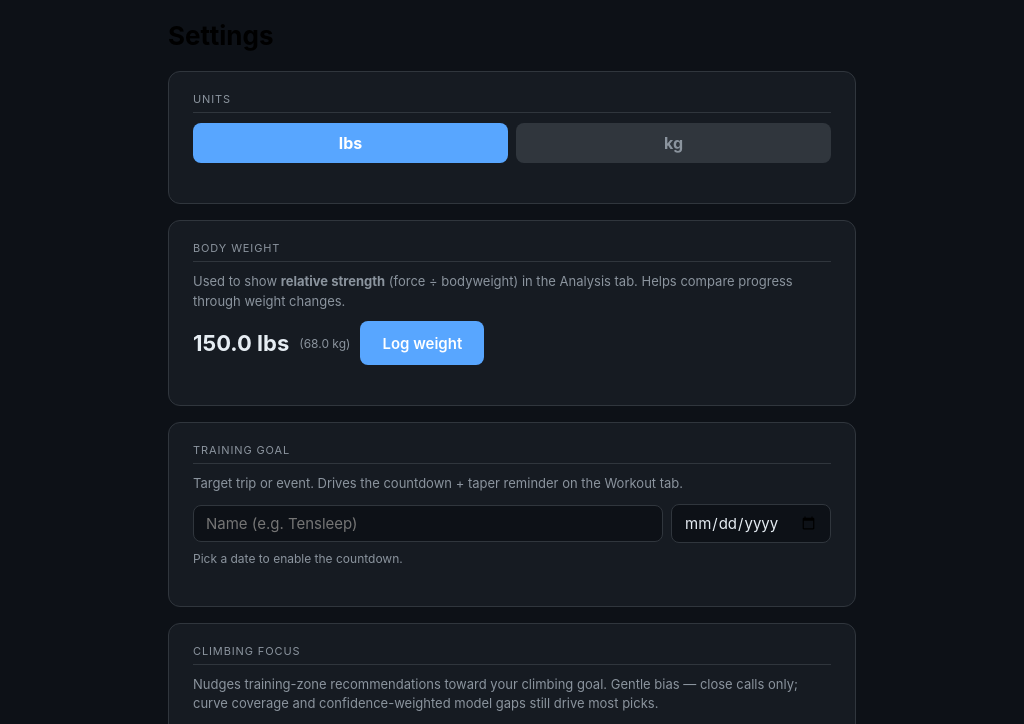
Test: Settings saves only the confirmed decimal weight, never intermediate typing
Expected: the text "150.0 lbs" is shown, [193, 330, 289, 356]
Click the button "Log weight" at (422, 343), box [360, 321, 484, 365]
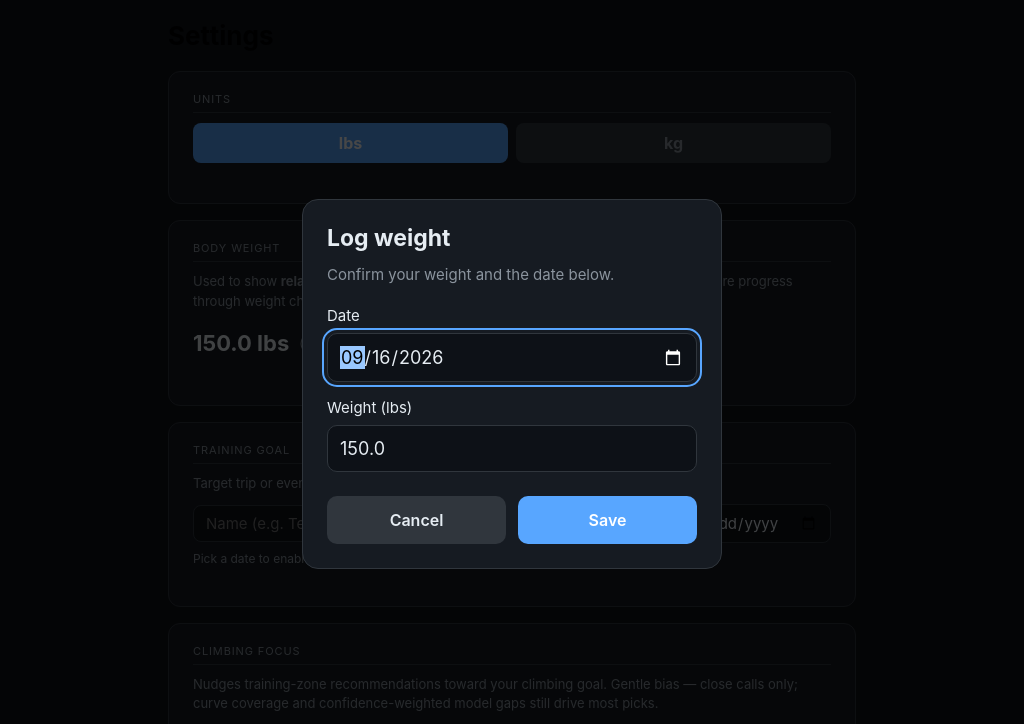
Clear the number field labelled "Weight (lbs)" at (512, 449), box [327, 425, 697, 472]
Type "1" into the number field labelled "Weight (lbs)" at (512, 449), box [327, 425, 697, 472]
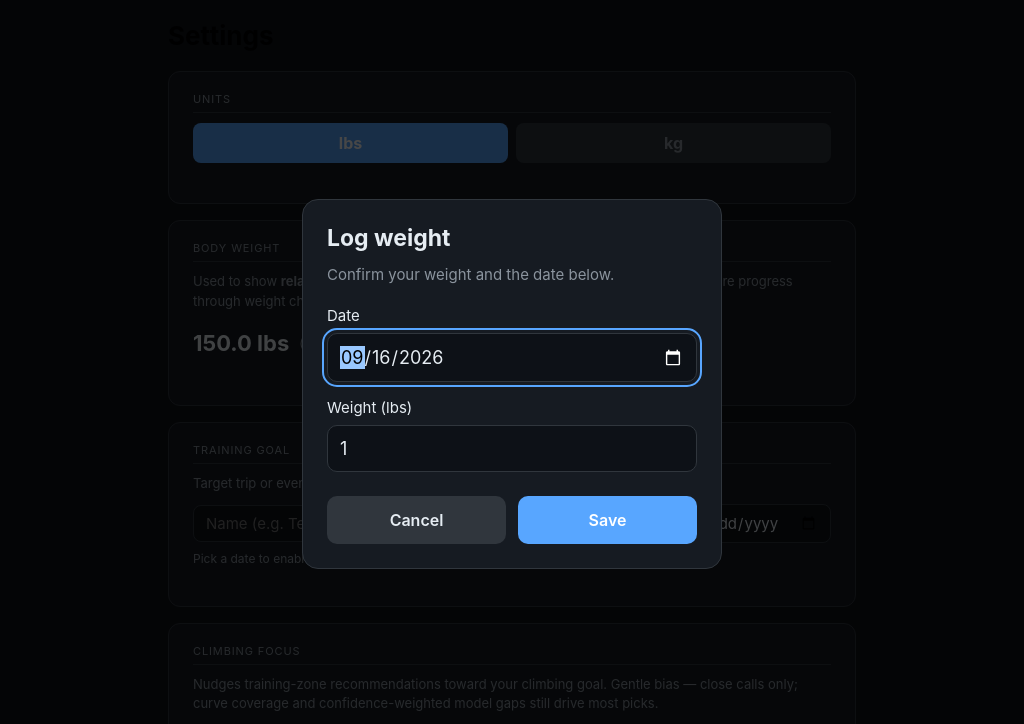
Replace the text in the number field labelled "Weight (lbs)" with "15" at (512, 449), box [327, 425, 697, 472]
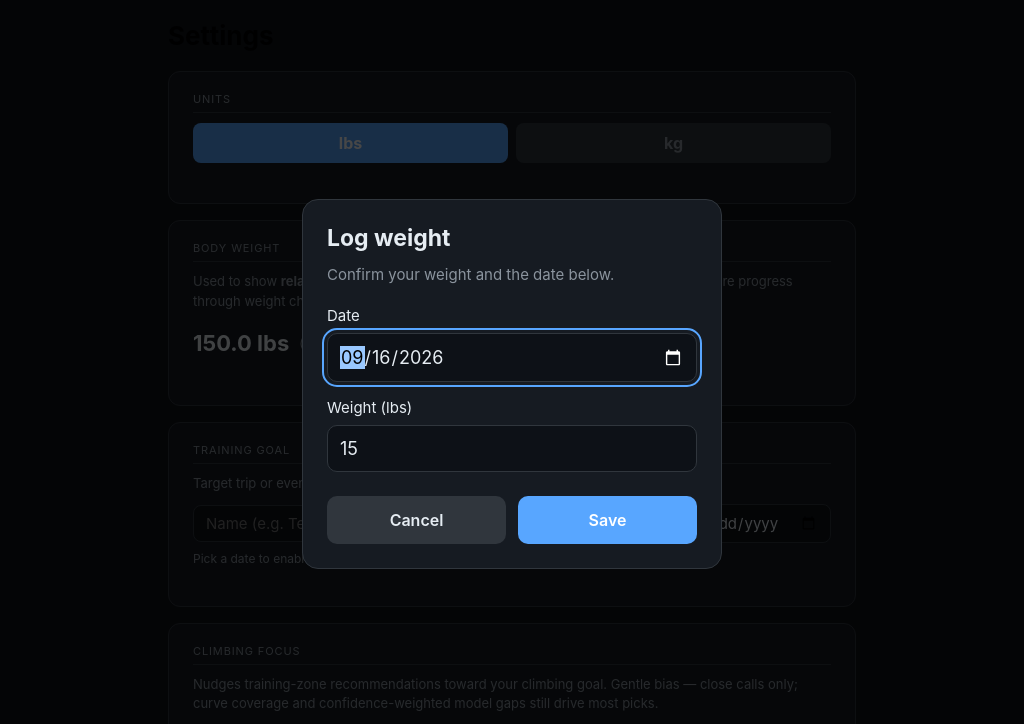
Replace the text in the number field labelled "Weight (lbs)" with "150" at (512, 449), box [327, 425, 697, 472]
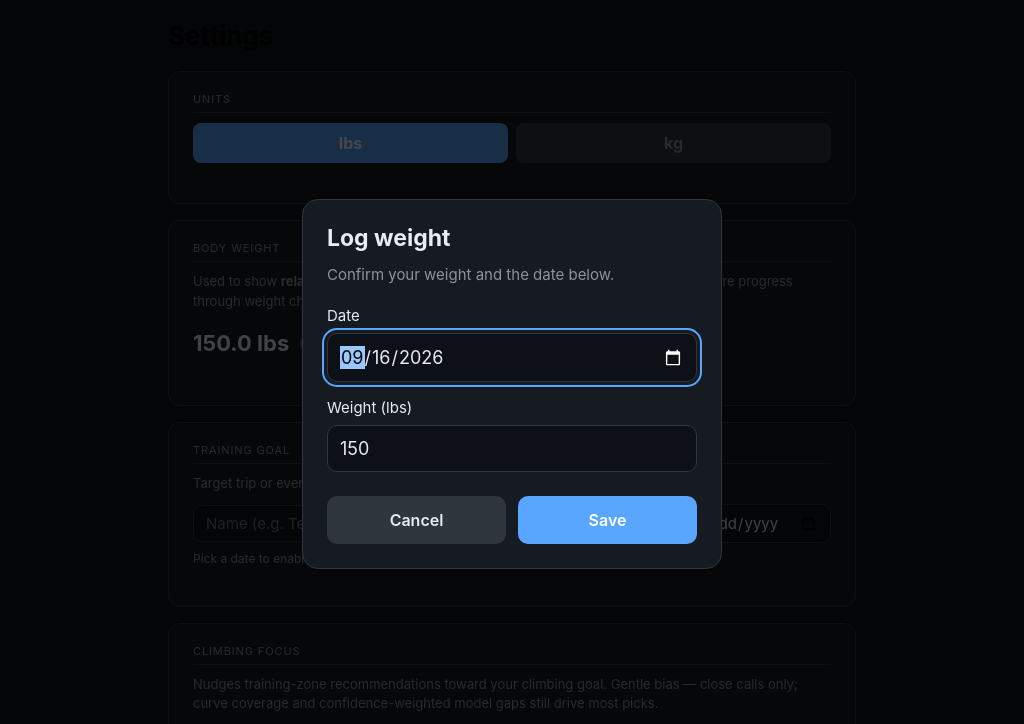
Replace the text in the number field labelled "Weight (lbs)" with "150.4" at (512, 449), box [327, 425, 697, 472]
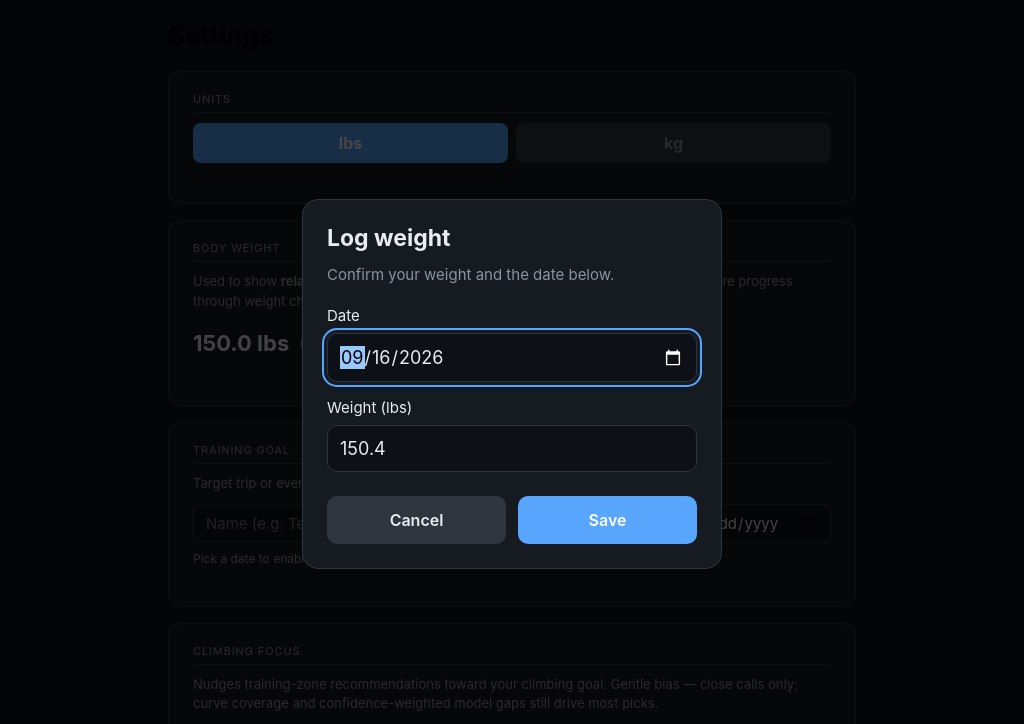
Click the button "Save" at (608, 520), box [518, 496, 697, 544]
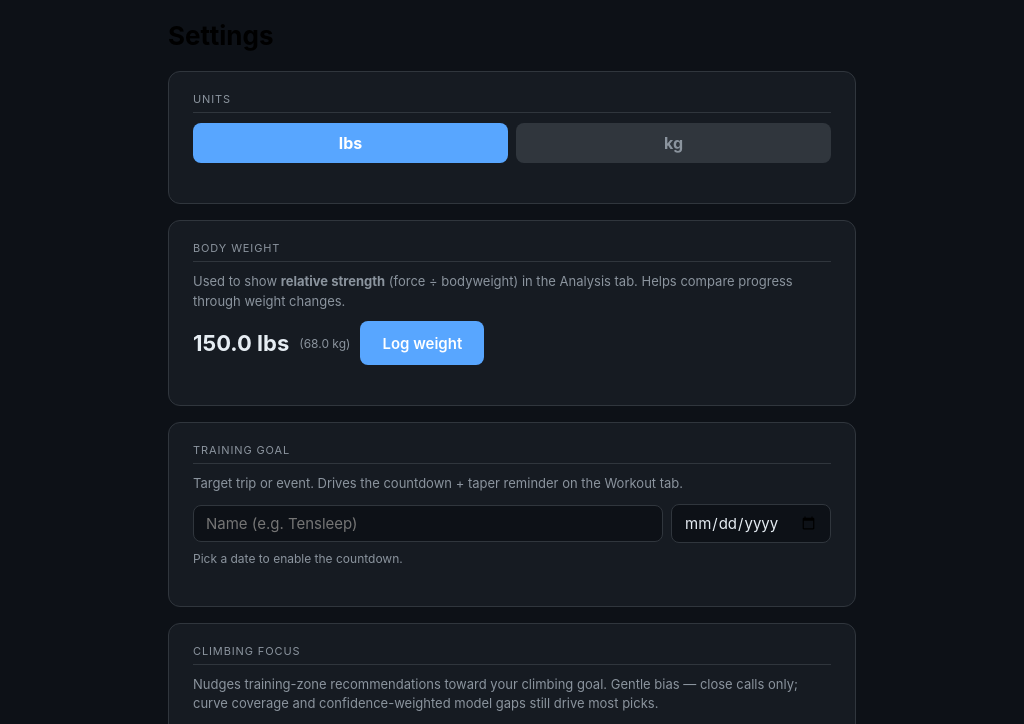
Now the dialog is gone
